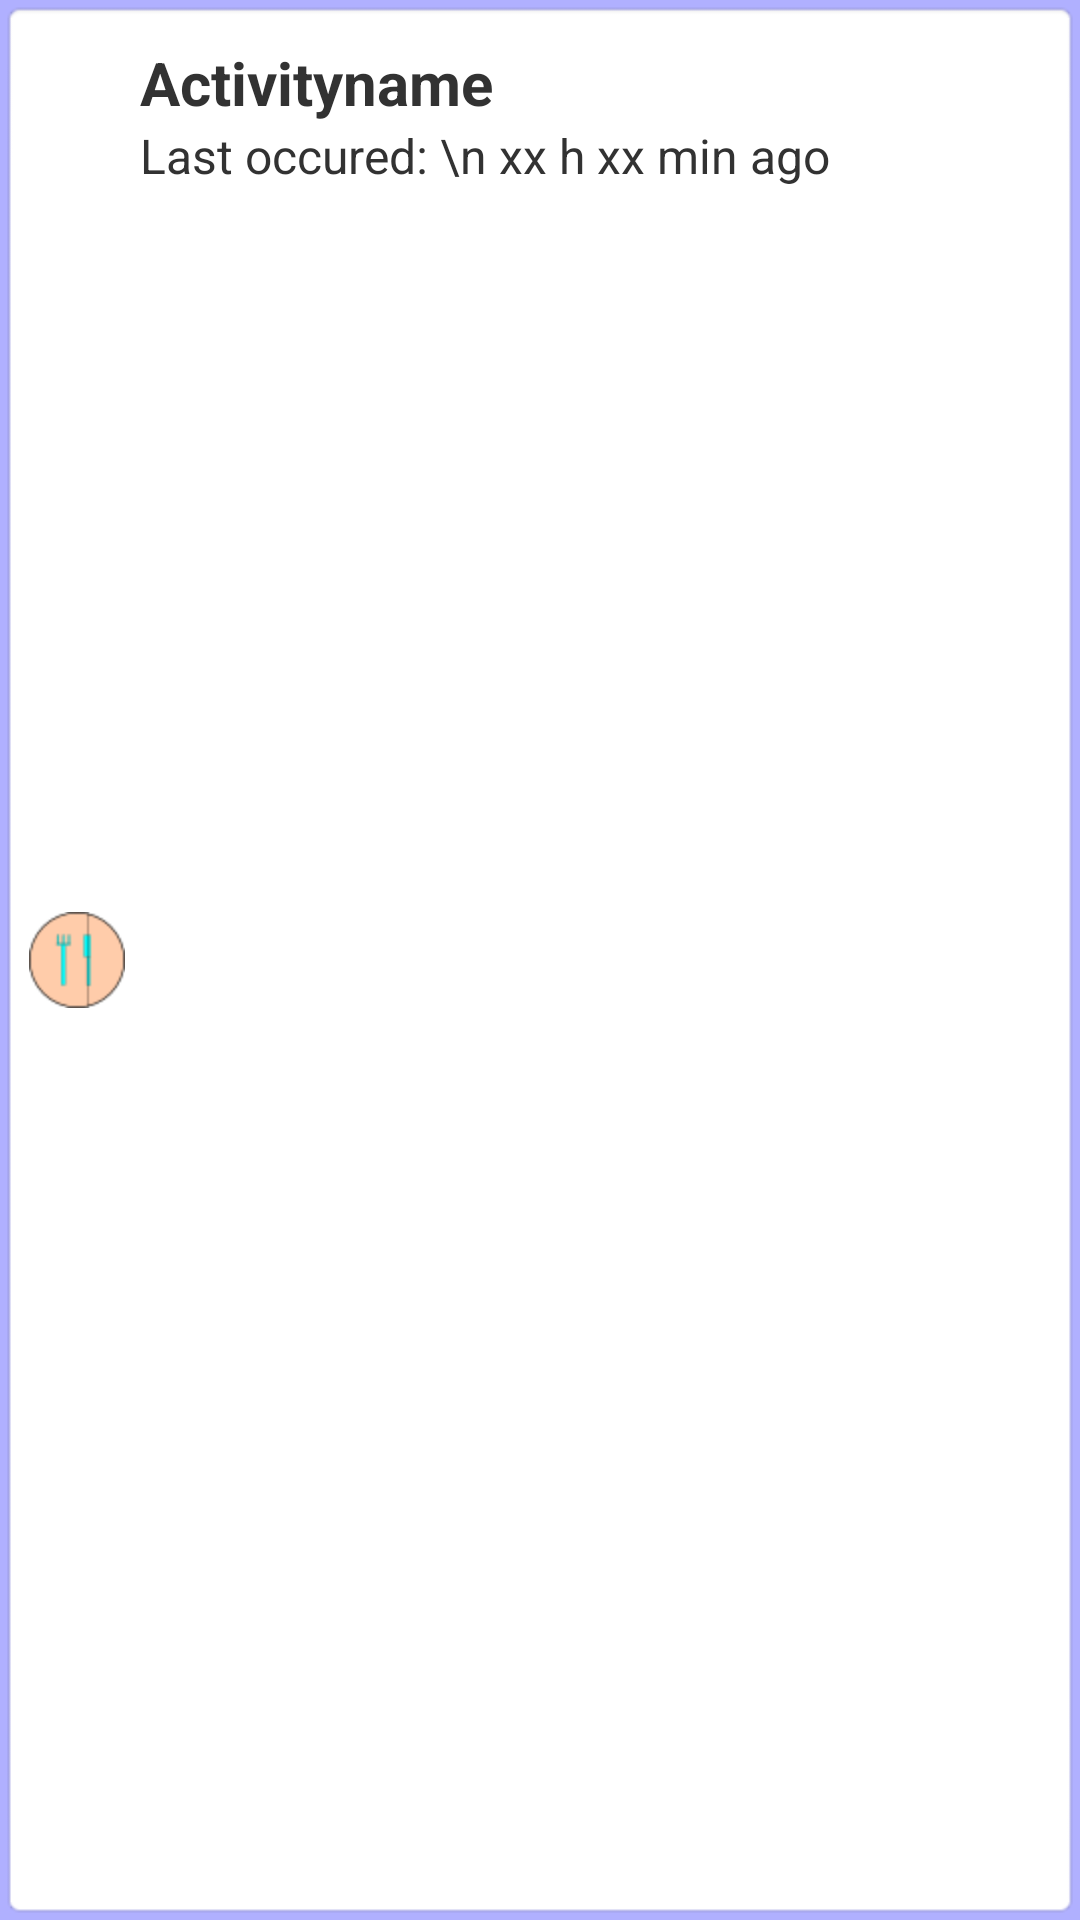

Where to tap for icons on this 1080w x 1920h app screen, as (x,y):
eat: (77,960)
